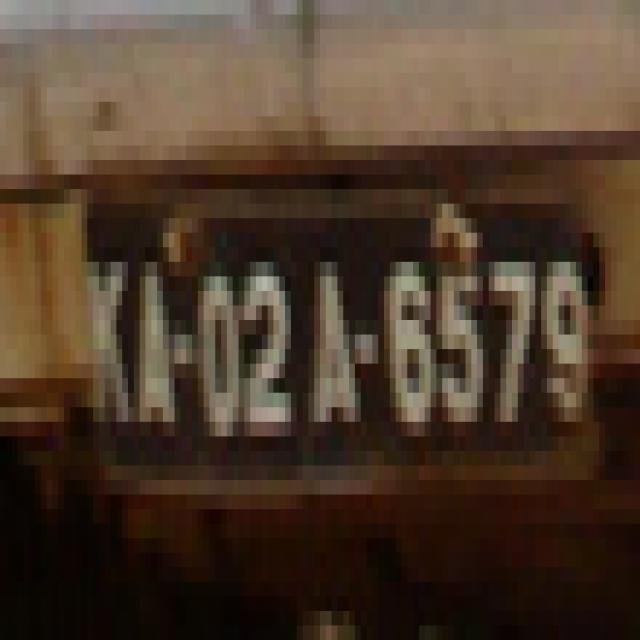0: (194, 244, 244, 451)
5: (435, 243, 487, 430)
6: (381, 240, 436, 453)
7: (484, 228, 542, 450)
9: (538, 234, 592, 442)
A: (308, 240, 366, 463), (130, 232, 180, 451)
K: (84, 233, 130, 454)
